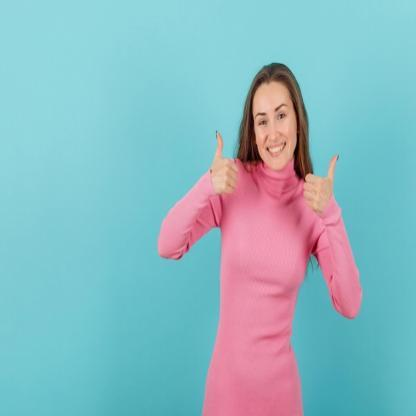thumb_up: (300, 149, 342, 216), (207, 124, 240, 198)
